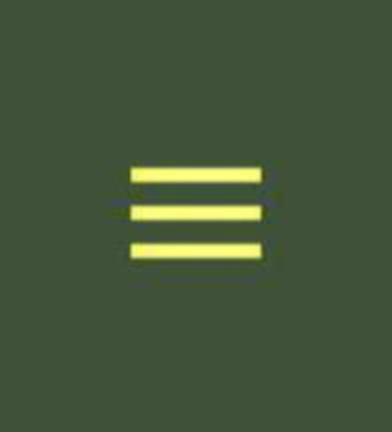ImgButton: (1, 1, 391, 431)
